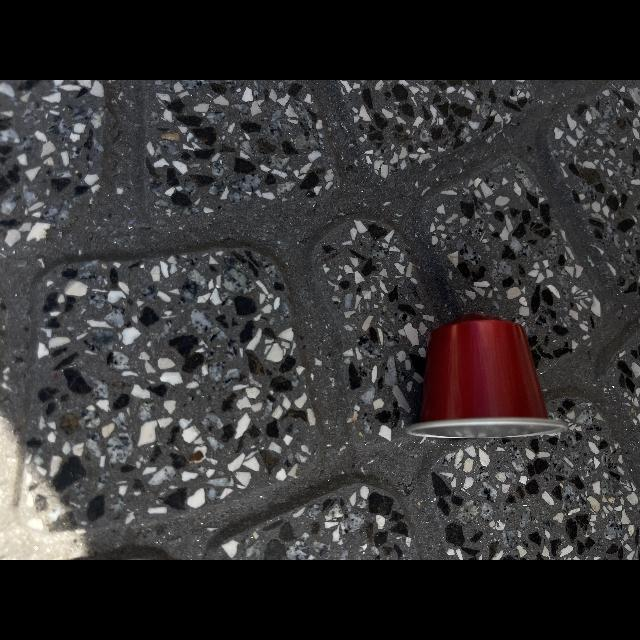intact_capsule: (400, 302, 574, 466)
